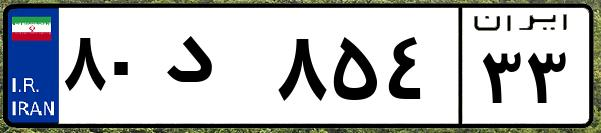0: (110, 28, 158, 98)
3: (475, 38, 525, 113), (525, 38, 570, 115)
4: (385, 28, 445, 110)
5: (330, 28, 385, 110)
8: (270, 28, 330, 110), (57, 26, 110, 100)
د: (158, 20, 270, 120)
